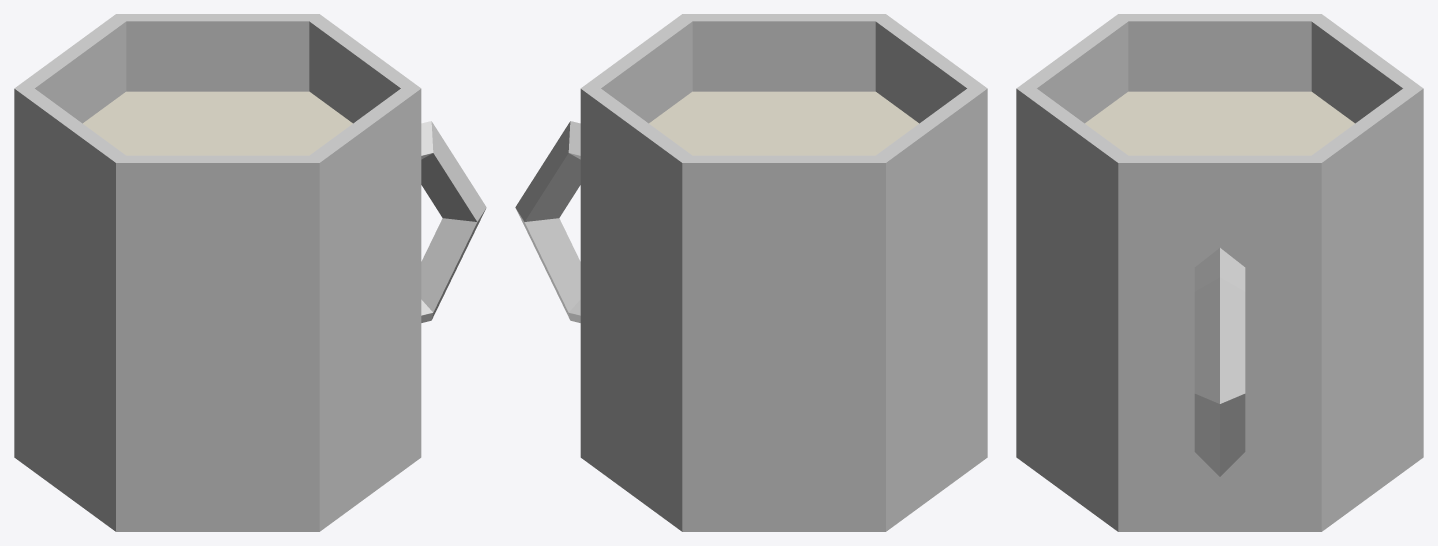
The model's file is Cup3Milk.fbx.
3 views of the same model, side by side, from view 1: azimuth 30°, elevation 25°; view 2: azimuth 150°, elevation 25°; view 3: azimuth 270°, elevation 25° (orthographic).
Visible parts, largest first — view 1: Cylinder; view 2: Cylinder; view 3: Cylinder.
Boxes of the visible parts, box(x1,y1,x2,y2) form: Cylinder: box(14, 14, 486, 531); Cylinder: box(515, 14, 987, 531); Cylinder: box(1016, 14, 1423, 531).
Size of the model in its own units: 0.263 by 0.22 by 0.22.
